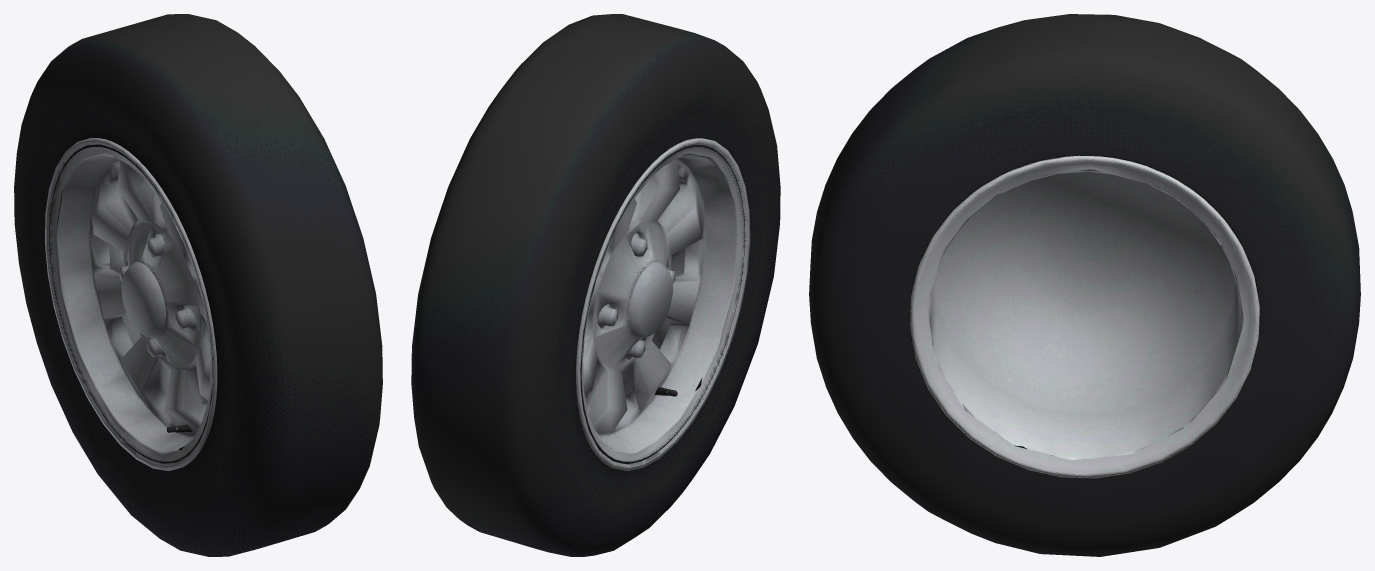
File: lancia_fulvia_wheel_front_left.glb
The picture shows the model from 3 angles, left to right: view 1: azimuth 30°, elevation 25°; view 2: azimuth 150°, elevation 25°; view 3: azimuth 270°, elevation 25°; orthographic projection. The views are drawn at different scales.
Visible parts, largest first — view 1: Fulvia_Wheel_front_left; view 2: Fulvia_Wheel_front_left; view 3: Fulvia_Wheel_front_left.
Boxes of the visible parts, x1,y1,x2,y2 form: Fulvia_Wheel_front_left: [14, 14, 382, 556]; Fulvia_Wheel_front_left: [411, 14, 780, 556]; Fulvia_Wheel_front_left: [809, 14, 1360, 556].
Bounding box in the file's own units: 0.1964 × 0.6217 × 0.6205.
1 material, 1 textured.
